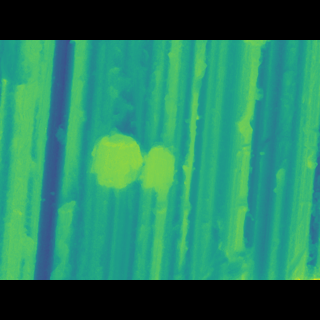Loch: (89, 138, 192, 204), (54, 189, 81, 250)
